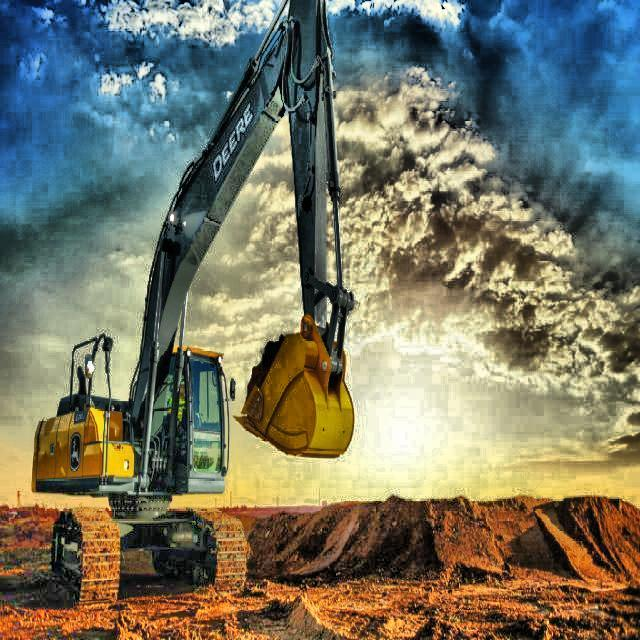excavator: (26, 0, 366, 596)
